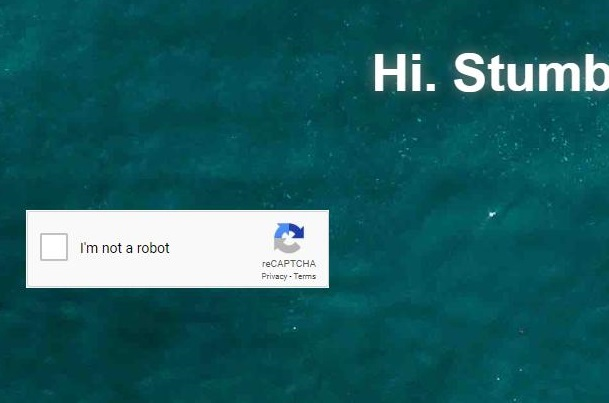captcha: (40, 233, 171, 262)
